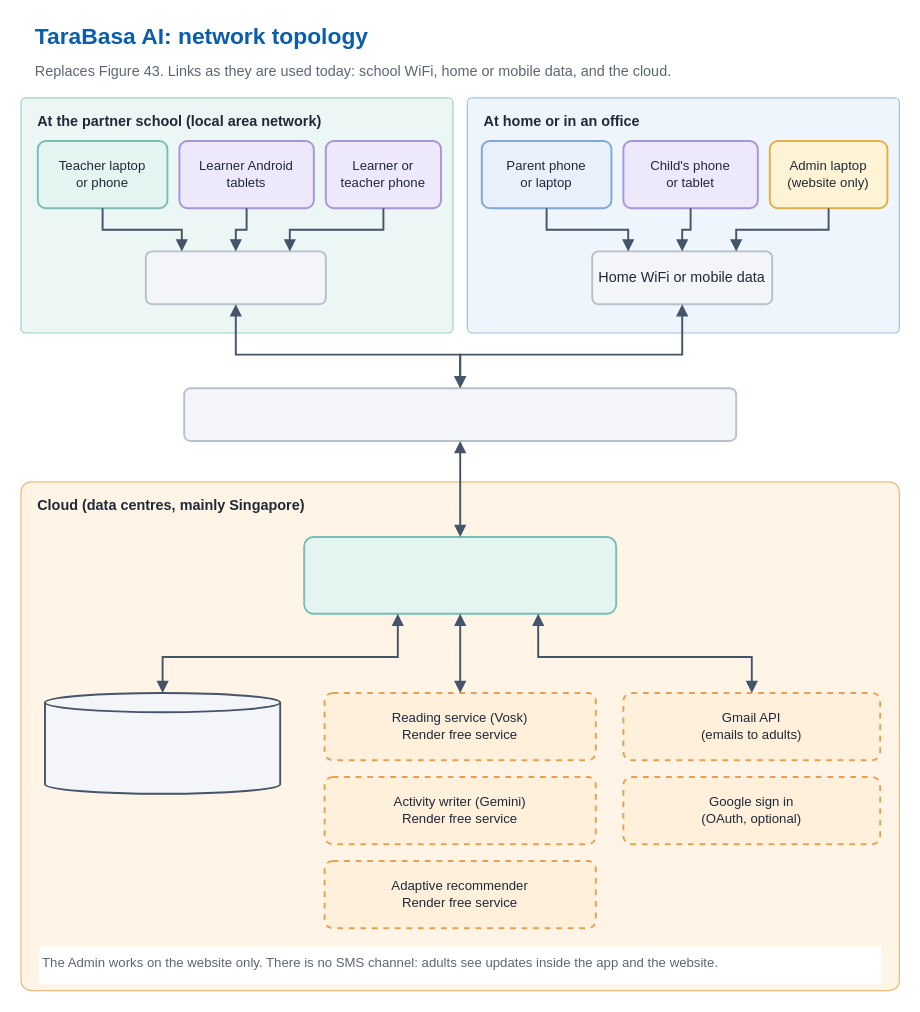
The diagram is 920 pixels wide and 1012 high, and some of its shapes have lost their labels. Here are the shapes that lost their labels. From the top down, the centre of each, then its label:
At pixel 235 277: "School WiFi router".
At pixel 460 414: "Internet service providers and the public Internet".
At pixel 460 574: "Render web service (Docker) Laravel 13: website, API, rules, queue worker".
At pixel 162 742: "TiDB Cloud (AWS Singapore) MySQL compatible (SQLite on a developer PC)".
